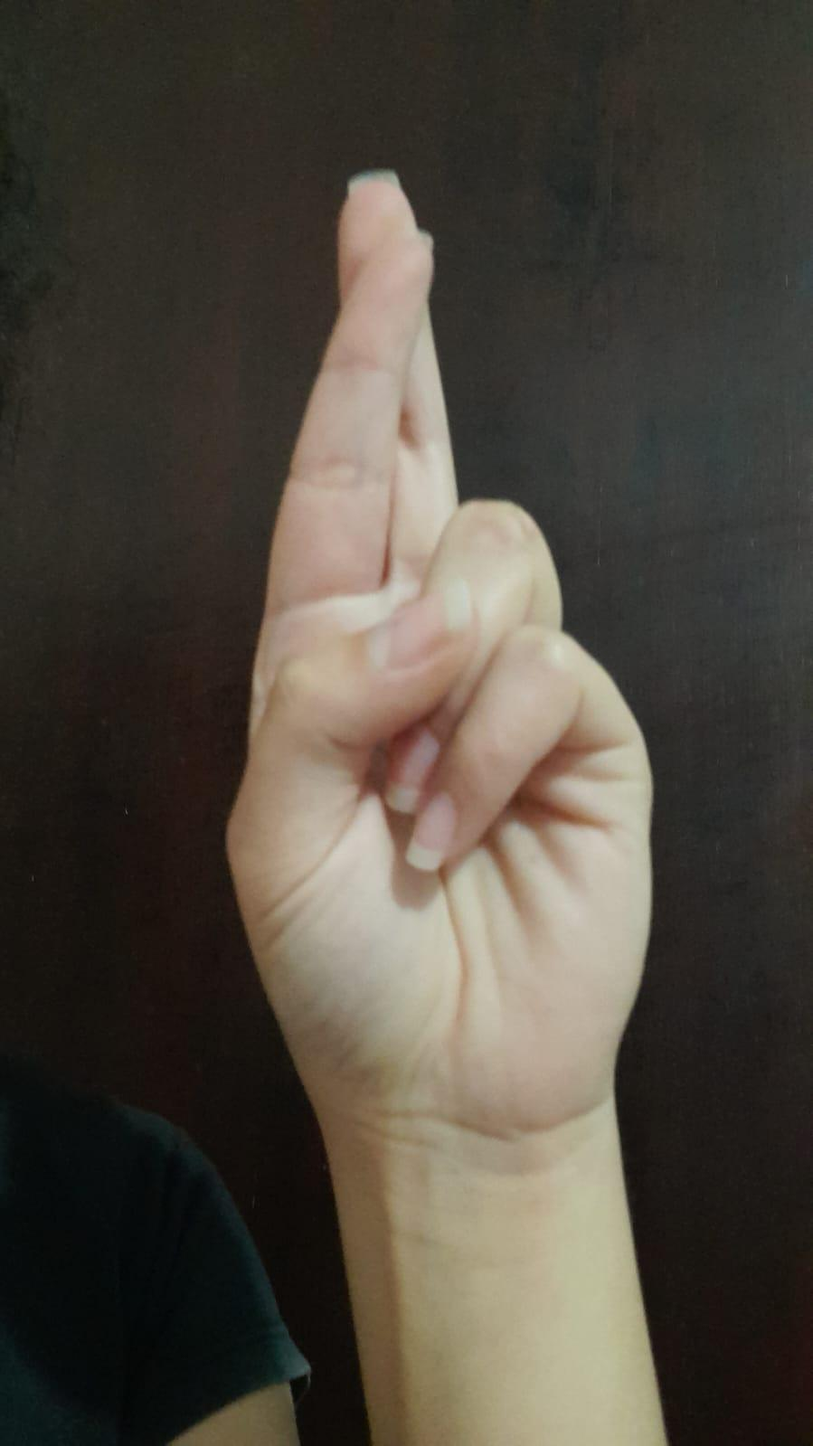R: (208, 149, 696, 1144)
